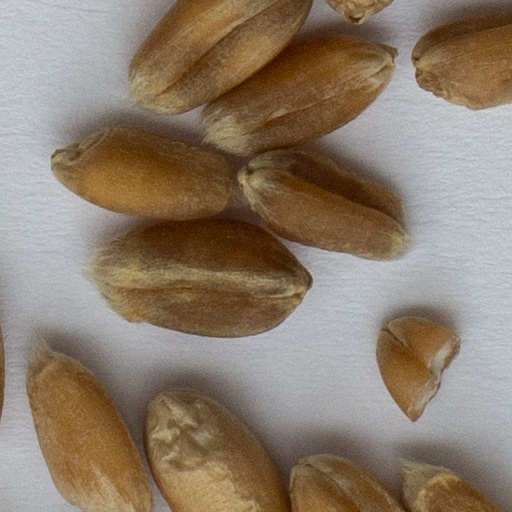Wheat-grain-damaged-poly: (376, 316, 457, 419)
